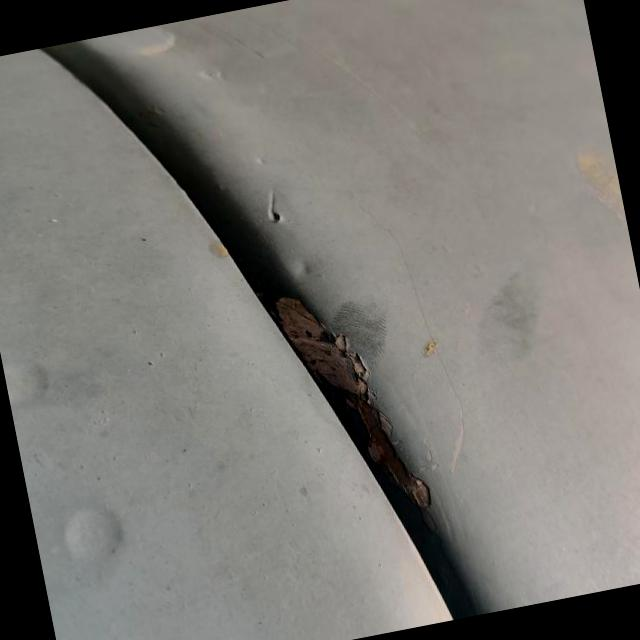paint-off: (245, 247, 472, 563)
